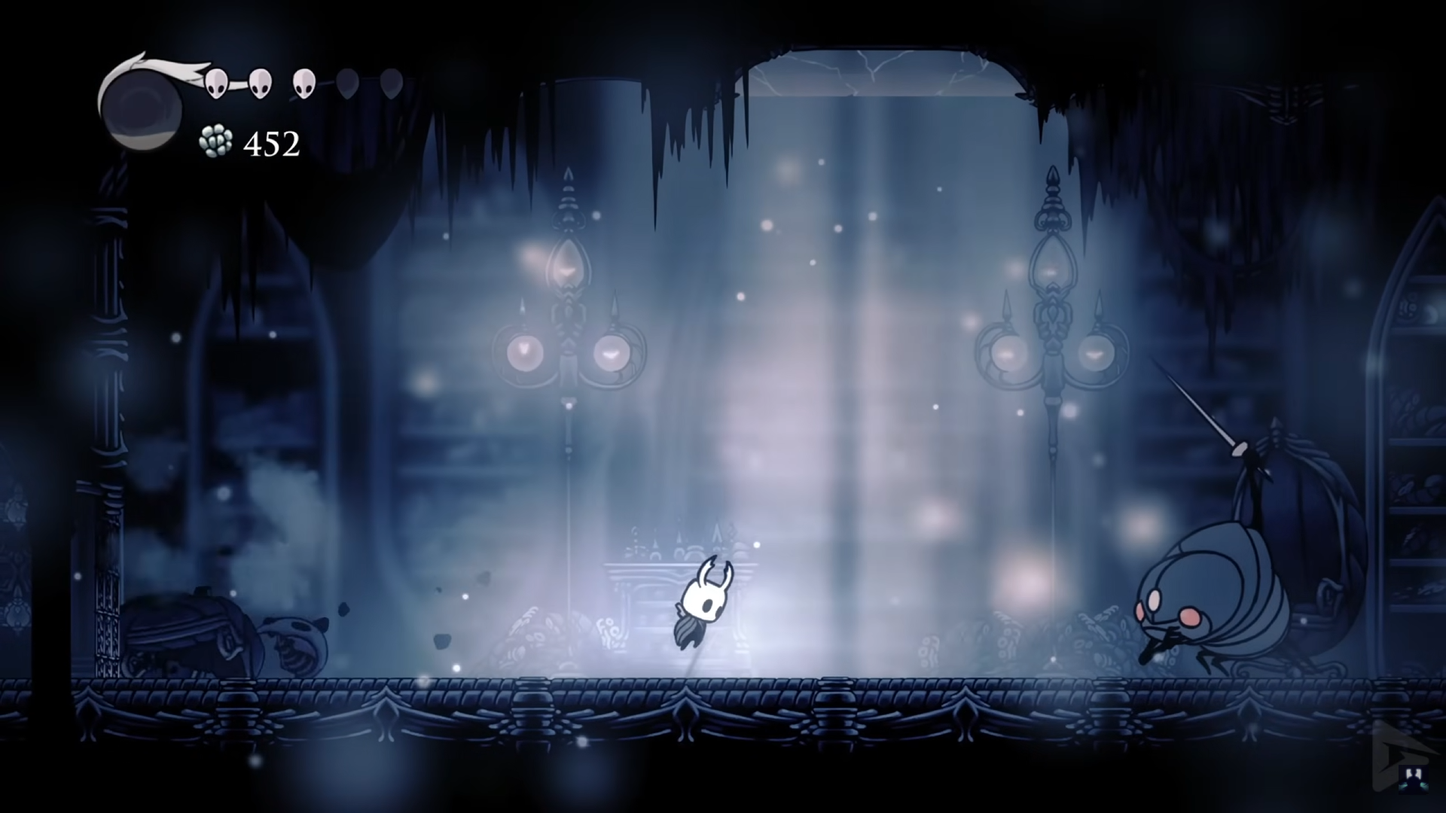HK: (669, 553, 734, 658)
